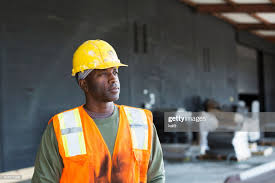Person_wearing_helmet: (73, 32, 129, 82)
